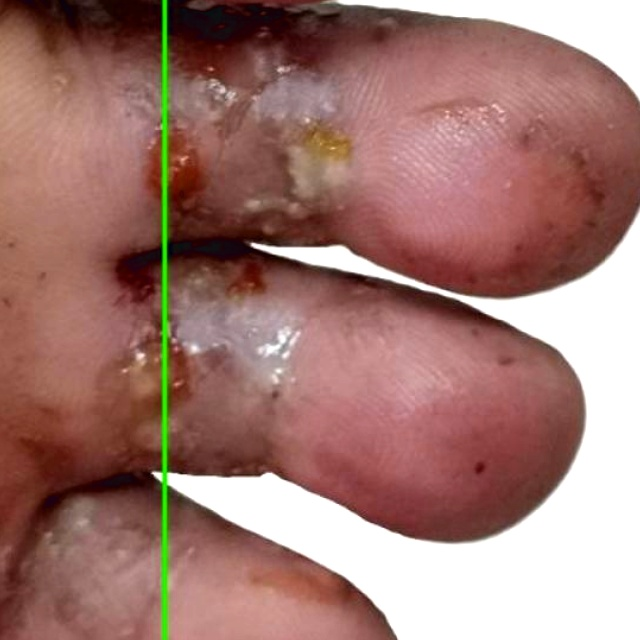Scabies: (164, 0, 639, 639)
